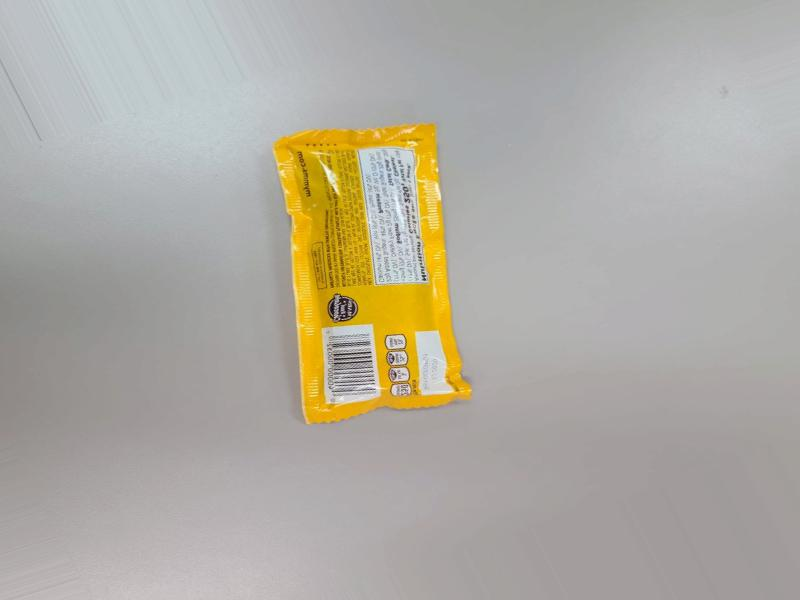m&m: (261, 123, 473, 454)
